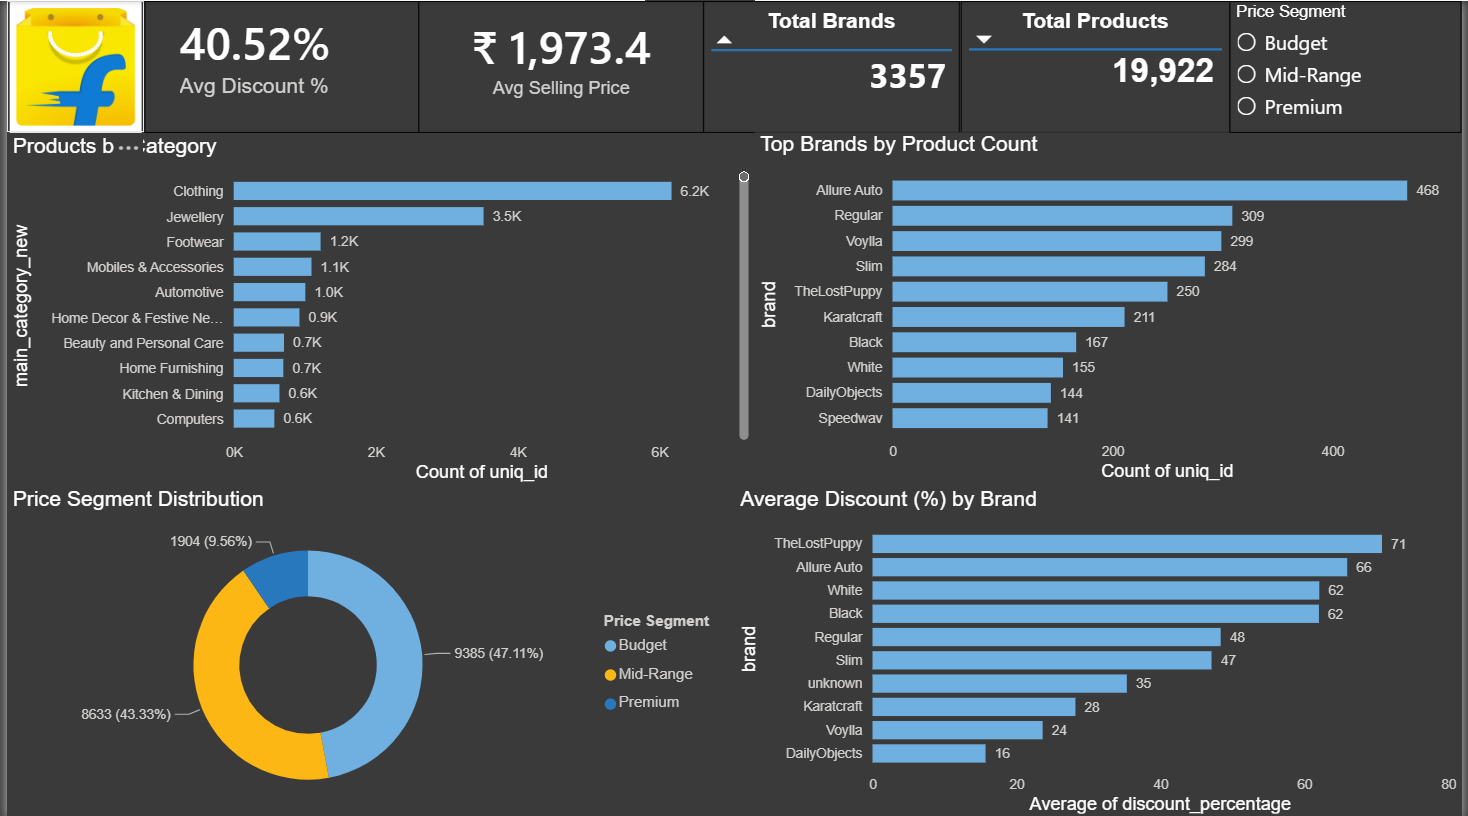

Layout of this report page (visuals, bound fields, positions):
{"tool":"powerbi","page":{"name":"Total Products ","canvas":[1280,720],"ordinal":0},"visuals":[{"type":"tableEx","fields":{"Values":["SQL_Flipkart_Cleaned_Data.uniq_id"]},"box":[936.2,0,205,116.2],"z":0},{"type":"tableEx","fields":{"Values":["SQL_Flipkart_Cleaned_Data.brand"]},"box":[265,0,207.5,116.2],"z":1000},{"type":"cardVisual","fields":{"Data":["Avg(SQL_Flipkart_Cleaned_Data.discounted_price)"]},"box":[495,0,200,116.2],"z":2000},{"type":"clusteredBarChart","title":"Products by Category","fields":{"Category":["SQL_Flipkart_Cleaned_Data.main_category_new"],"Y":["CountNonNull(SQL_Flipkart_Cleaned_Data.uniq_id)"]},"box":[0,116.2,657.5,311.2],"z":3000},{"type":"donutChart","title":"Price Segment Distribution","fields":{"Category":["SQL_Flipkart_Cleaned_Data.price_segement"],"Y":["CountNonNull(SQL_Flipkart_Cleaned_Data.uniq_id)"]},"box":[0,427.5,640,292.5],"z":4000},{"type":"clusteredBarChart","title":"Top Brands by Product Count","fields":{"Category":["SQL_Flipkart_Cleaned_Data.brand"],"Y":["CountNonNull(SQL_Flipkart_Cleaned_Data.uniq_id)"]},"box":[657.5,116.2,607.5,311.2],"z":5000},{"type":"clusteredBarChart","title":"Average Discount (%) by Brand","fields":{"Category":["SQL_Flipkart_Cleaned_Data.brand"],"Y":["Avg(SQL_Flipkart_Cleaned_Data.discount_percentage)"]},"box":[640,427.5,640,292.5],"z":6000},{"type":"cardVisual","fields":{"Data":["SQL_Flipkart_Cleaned_Data.Avg Discount %"]},"box":[712.5,0,201.2,116.2],"z":7000},{"type":"listSlicer","fields":{"Values":["SQL_Flipkart_Cleaned_Data.Price Segment"]},"box":[85,0,156.2,116.2],"z":8000}]}

Visuals, with their boxes in screenshot pixels (x1, y1, x2, y2), scaled from the page's 1280x720 canvas onto the 1468x816 screenshot:
tableEx - SQL_Flipkart_Cleaned_Data.uniq_id: x1=1074, y1=0, x2=1309, y2=132
tableEx - SQL_Flipkart_Cleaned_Data.brand: x1=304, y1=0, x2=542, y2=132
cardVisual - Avg(SQL_Flipkart_Cleaned_Data.discounted_price): x1=568, y1=0, x2=797, y2=132
"Products by Category" clusteredBarChart: x1=0, y1=132, x2=754, y2=484
"Price Segment Distribution" donutChart: x1=0, y1=484, x2=734, y2=815
"Top Brands by Product Count" clusteredBarChart: x1=754, y1=132, x2=1451, y2=484
"Average Discount (%) by Brand" clusteredBarChart: x1=734, y1=484, x2=1467, y2=815
cardVisual - SQL_Flipkart_Cleaned_Data.Avg Discount %: x1=817, y1=0, x2=1048, y2=132
listSlicer - SQL_Flipkart_Cleaned_Data.Price Segment: x1=97, y1=0, x2=277, y2=132
